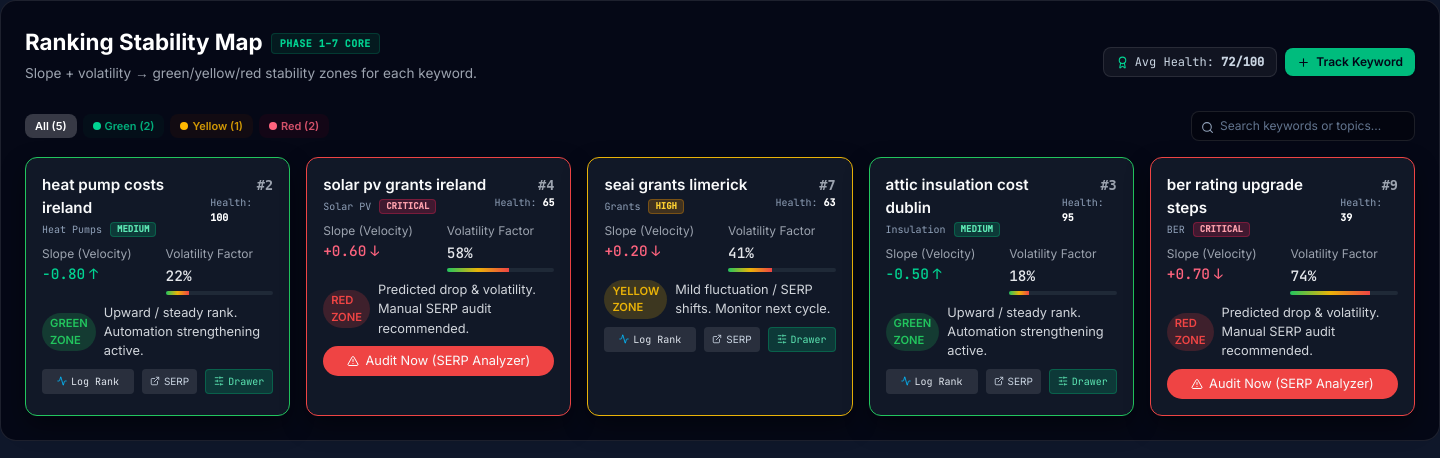
Scenario: RankingStabilityMap Component Interactions › filters keywords by zone when filter buttons are clicked
Click Green filter
Click the button "Green (2)" at (124, 126), box x1=82 y1=114 x2=164 y2=138
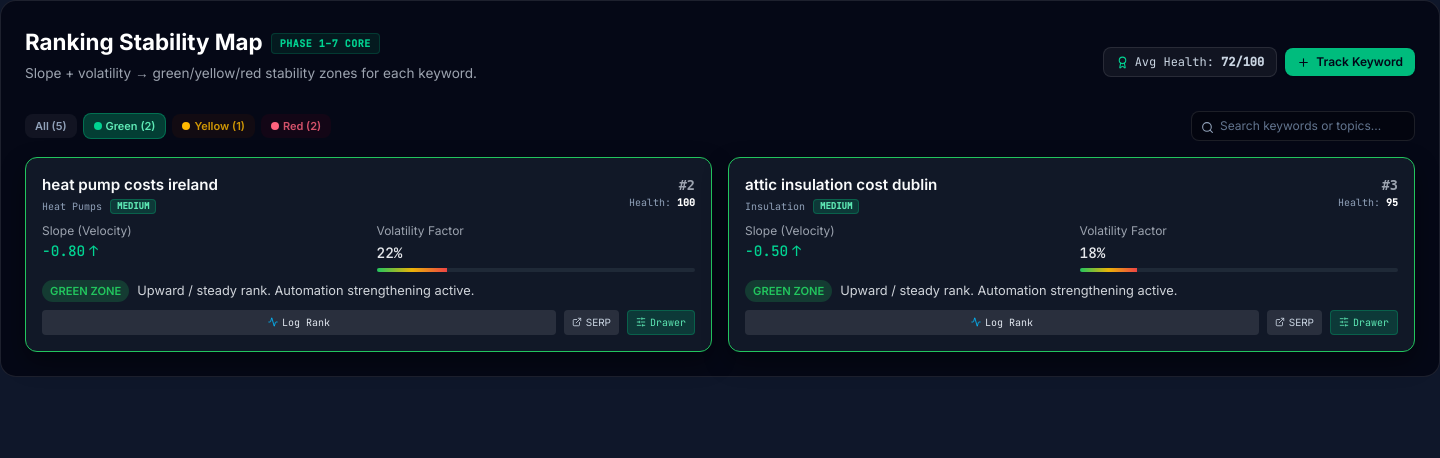
Expected: the text "heat pump costs ireland" is shown, x1=42 y1=174 x2=218 y2=197
Now the text "solar pv grants ireland" is gone
Click Red filter
Click the button "Red (2)" at (296, 126), box x1=261 y1=114 x2=331 y2=138
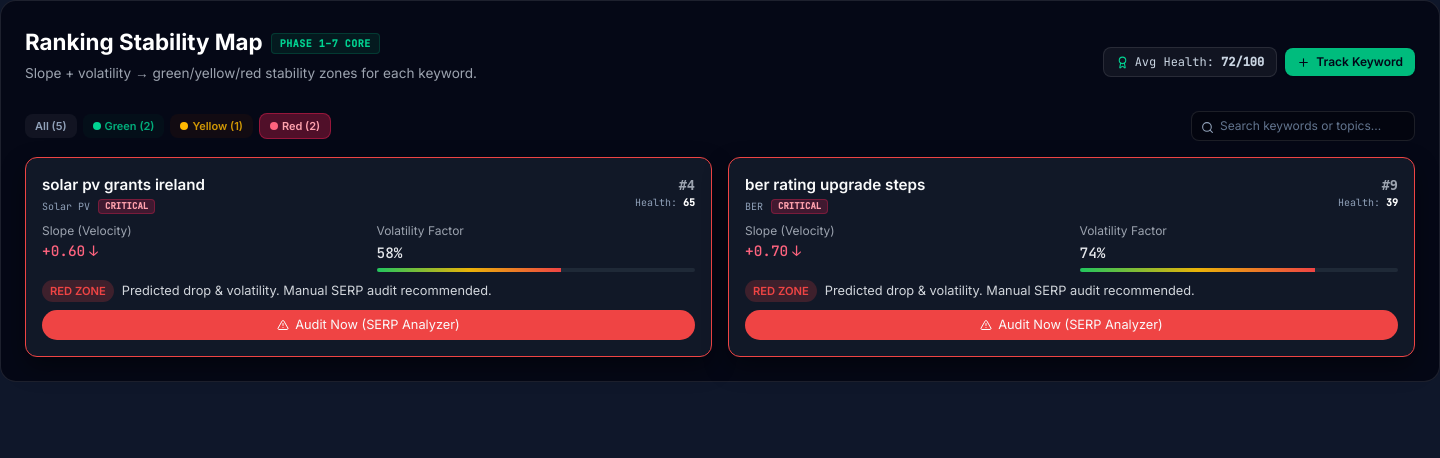
Now the text "solar pv grants ireland" is shown, box x1=42 y1=174 x2=205 y2=197
Now the text "ber rating upgrade steps" is shown, box x1=745 y1=174 x2=925 y2=197
Now the text "heat pump costs ireland" is gone
